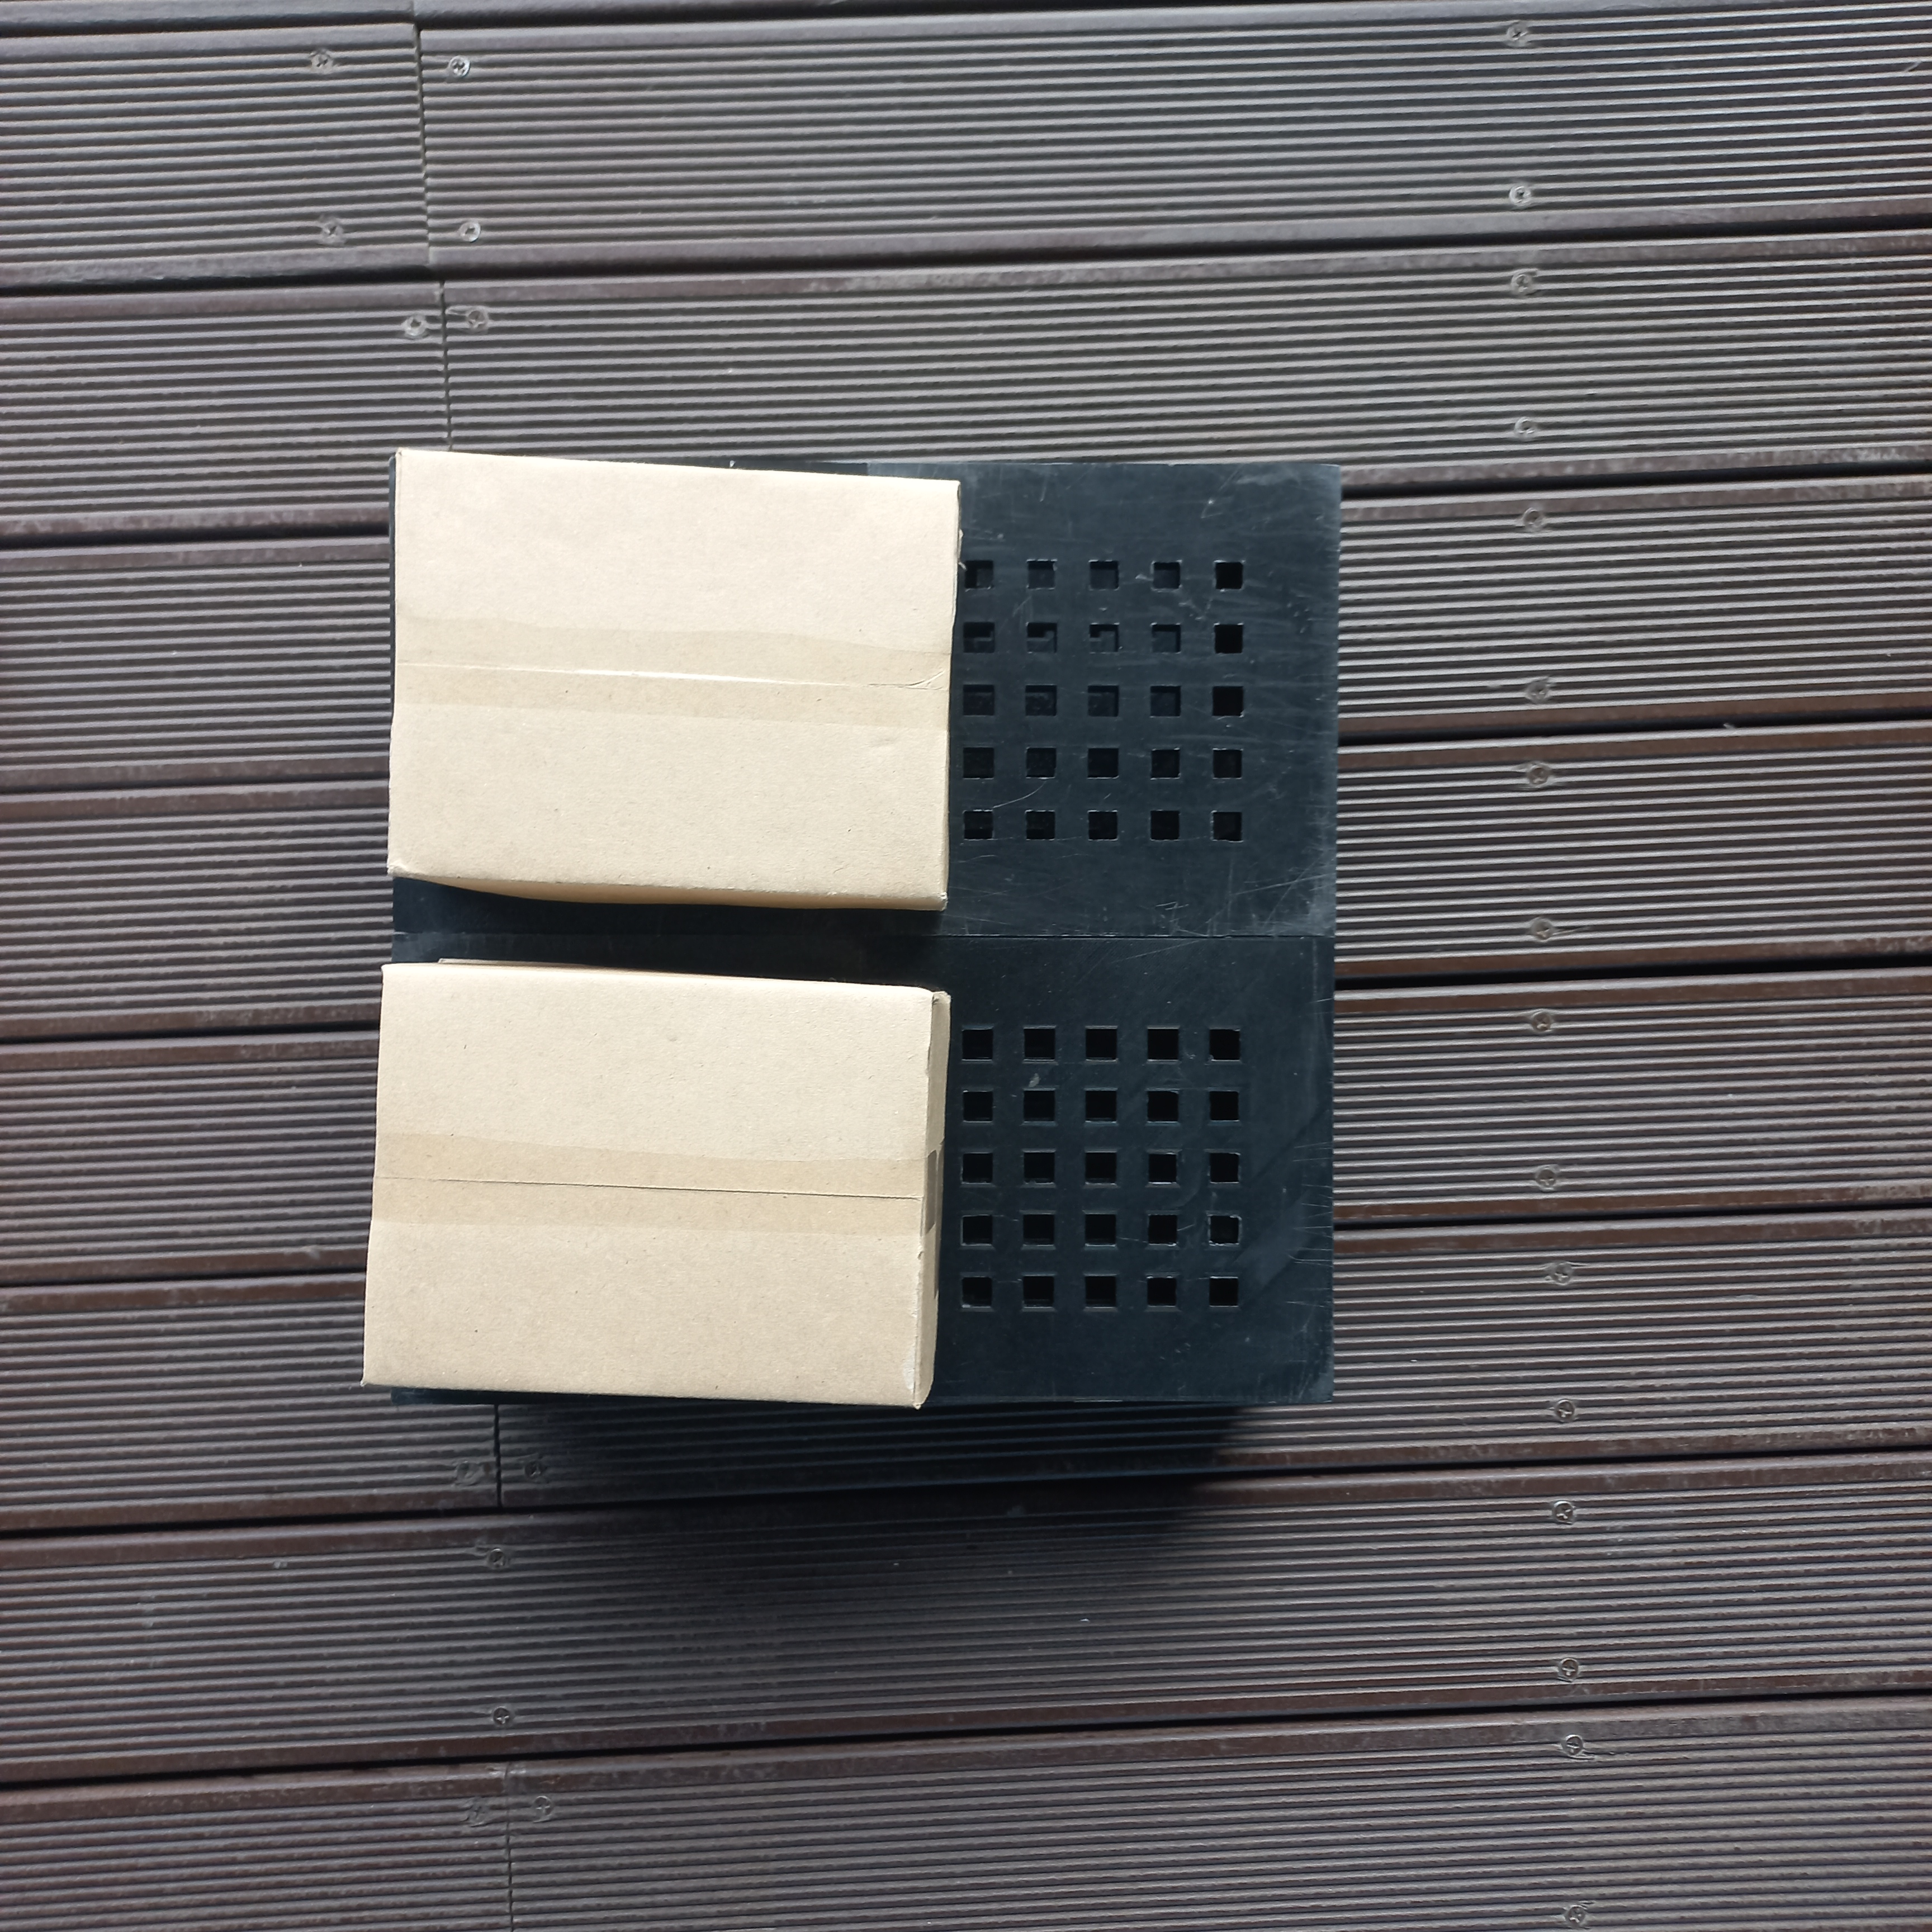box: (380, 446, 959, 911), (361, 961, 947, 1417)
